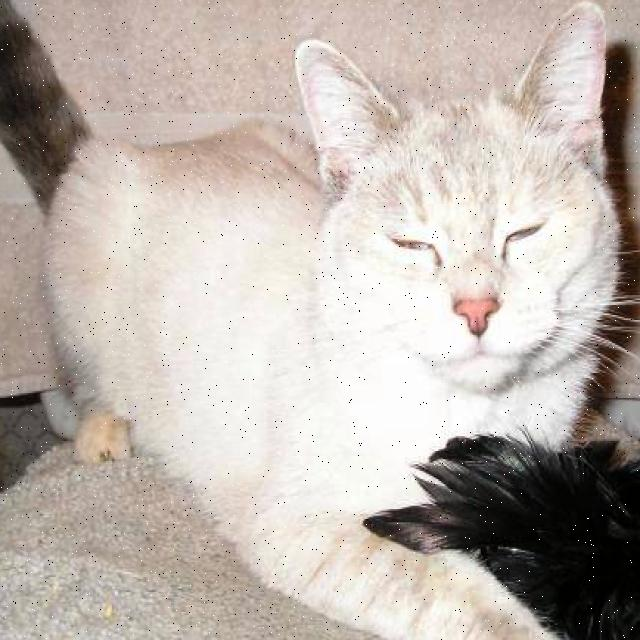Cat: (295, 3, 624, 424)
